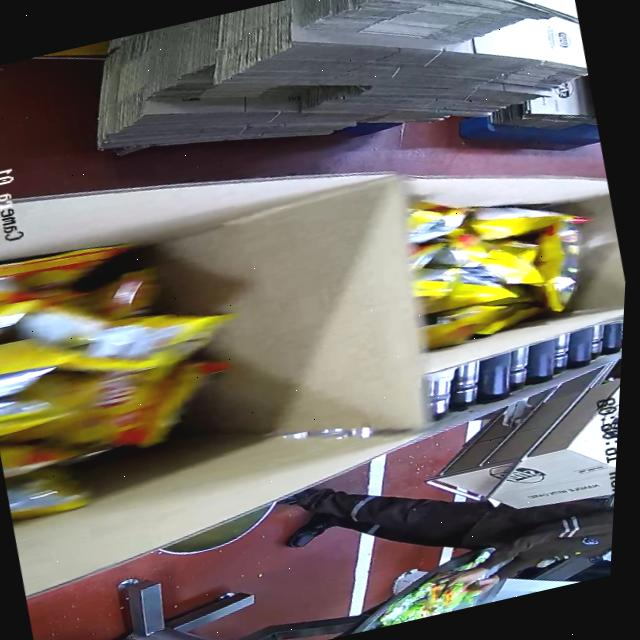SALTED: (0, 193, 284, 534), (395, 164, 606, 356)
